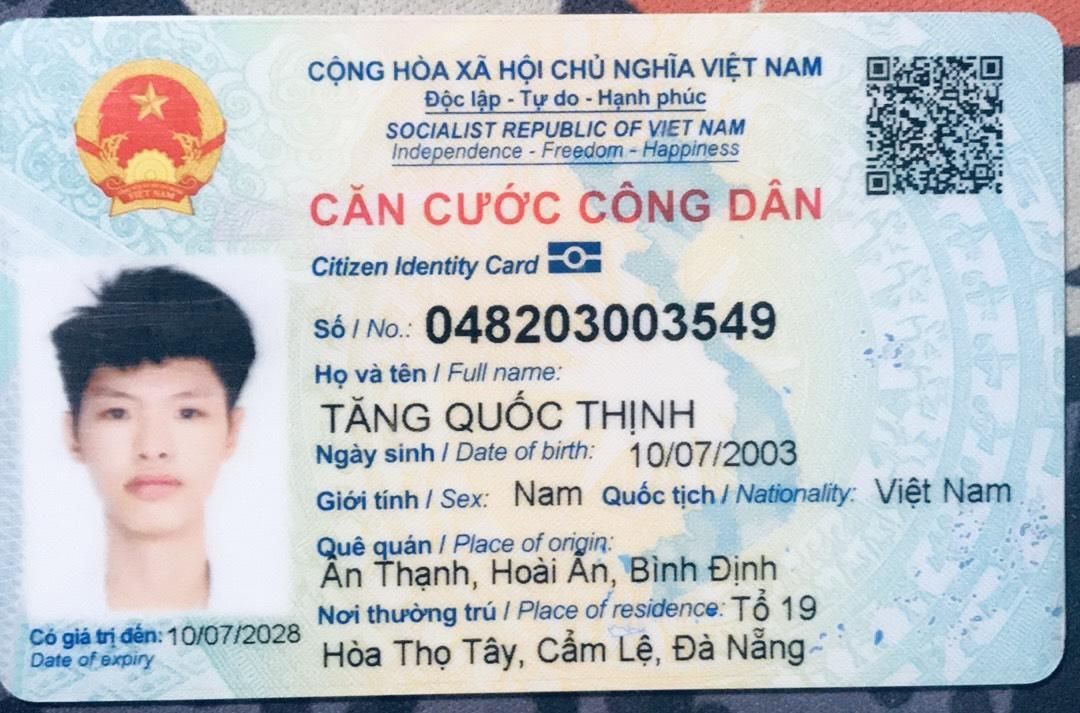ID: (417, 293, 781, 354)
birth: (626, 433, 814, 481)
name: (311, 389, 703, 442)
place: (310, 549, 796, 593)
residence: (321, 625, 815, 677), (724, 589, 826, 626)
